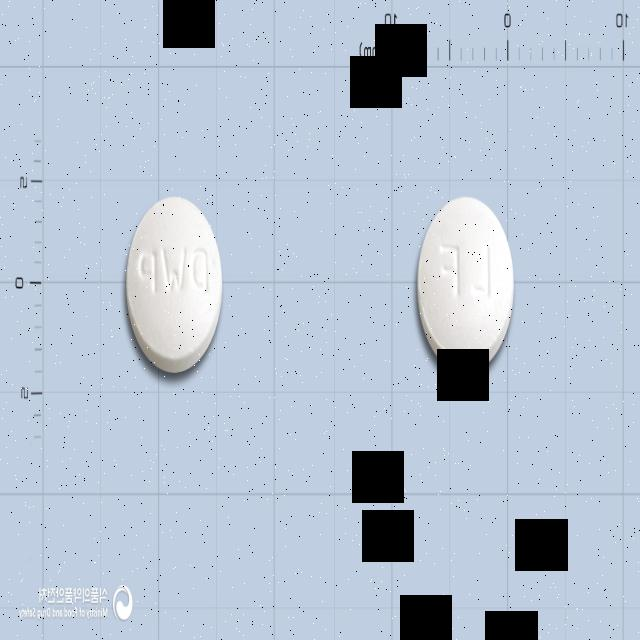Lefloxin: (416, 194, 515, 374), (126, 194, 222, 374)
